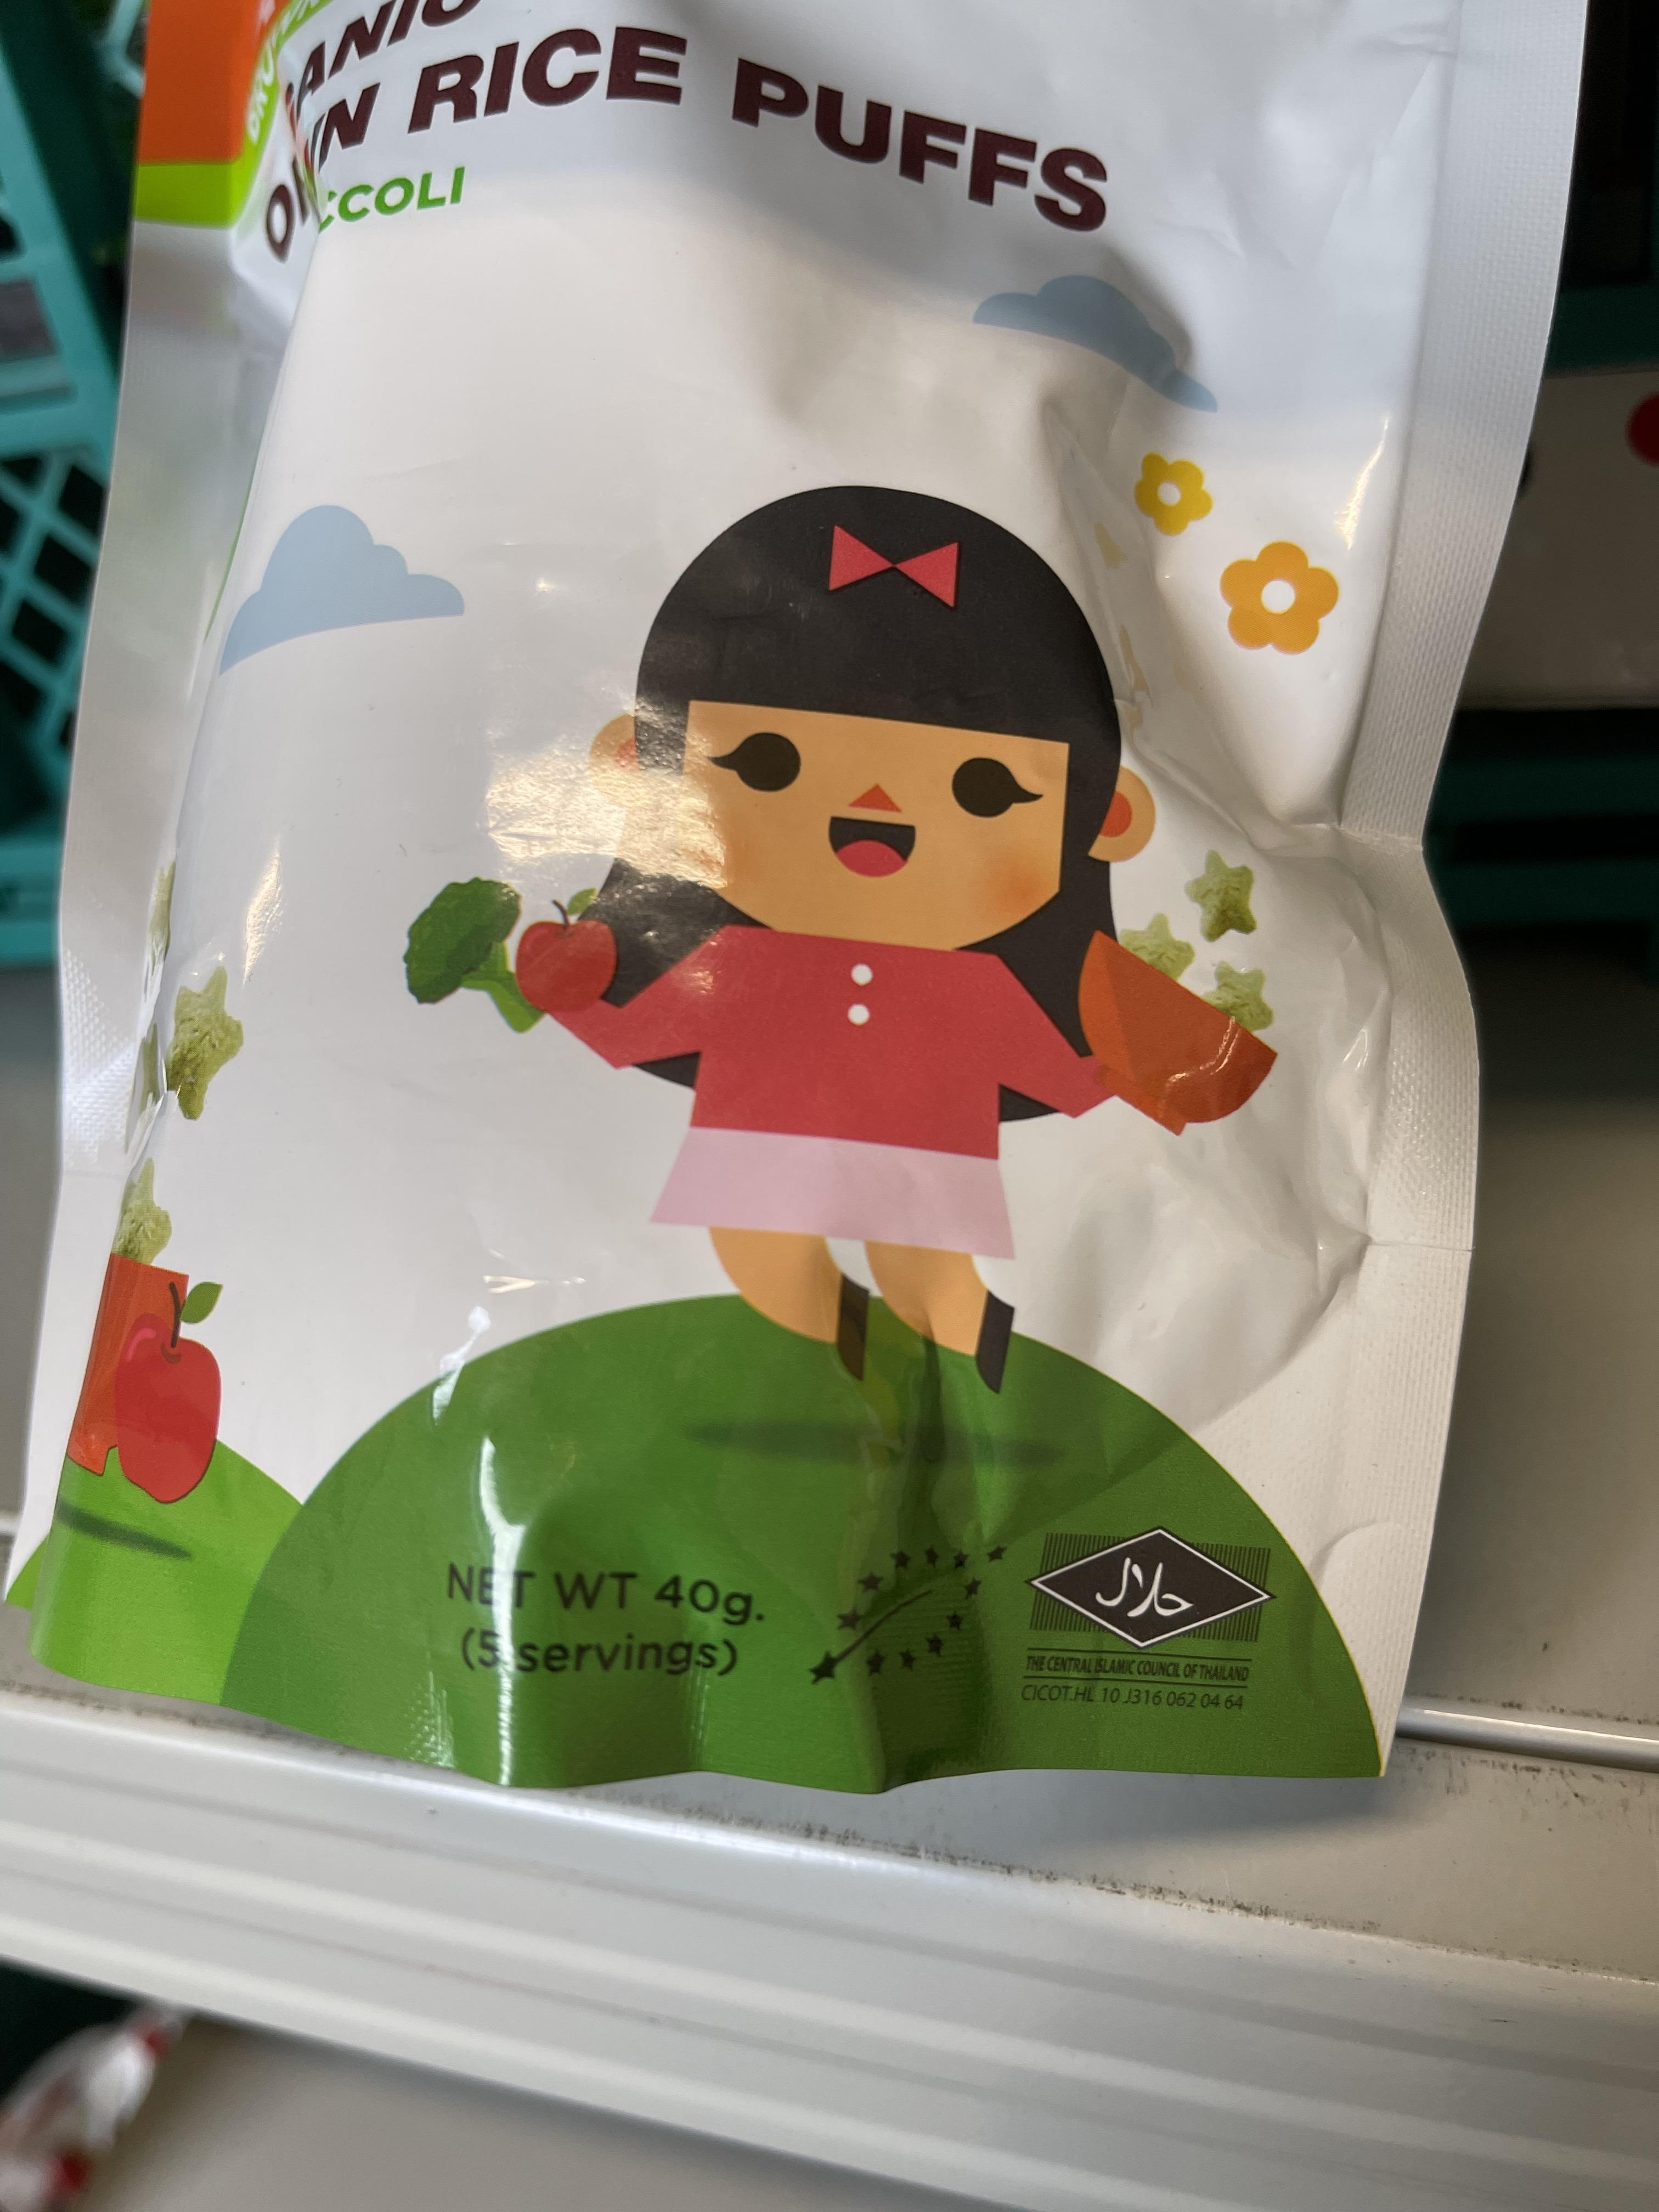object_name: (0, 0, 1427, 1733)
